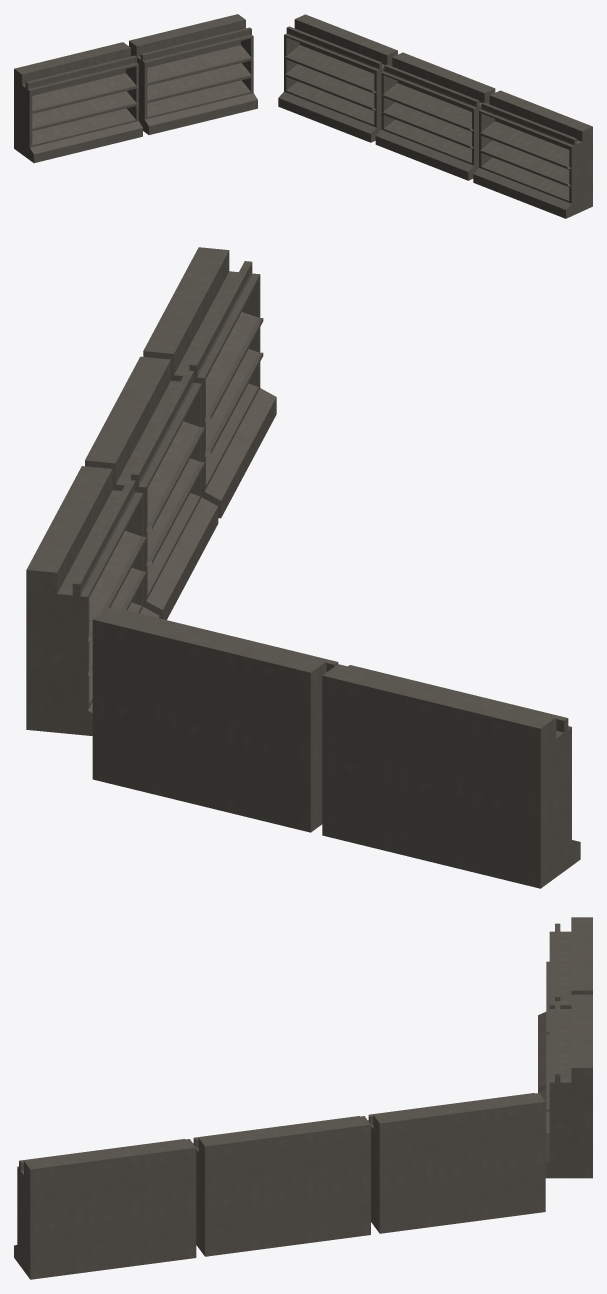
Rendered from greenCounter_EMBED.fbx.
3 views of the same model, one above another, from view 1: azimuth 30°, elevation 25°; view 2: azimuth 150°, elevation 25°; view 3: azimuth 270°, elevation 25° (orthographic). The views are drawn at different scales.
Parts seen in each view (by area): view 1: greenCounter, greenCounter.001, greenCounter.004, greenCounter.002, greenCounter.003; view 2: greenCounter, greenCounter.001, greenCounter.002, greenCounter.004, greenCounter.003; view 3: greenCounter.004, greenCounter.002, greenCounter.003, greenCounter.001, greenCounter.
Part boxes in pixels (x1=…): greenCounter: x1=14, y1=42, x2=142, y2=163; greenCounter.001: x1=129, y1=14, x2=257, y2=134; greenCounter.004: x1=473, y1=90, x2=592, y2=218; greenCounter.002: x1=278, y1=14, x2=397, y2=142; greenCounter.003: x1=375, y1=52, x2=495, y2=180; greenCounter: x1=322, y1=664, x2=580, y2=888; greenCounter.001: x1=92, y1=608, x2=338, y2=832; greenCounter.002: x1=26, y1=466, x2=159, y2=735; greenCounter.004: x1=143, y1=247, x2=276, y2=518; greenCounter.003: x1=85, y1=356, x2=218, y2=619; greenCounter.004: x1=14, y1=1139, x2=196, y2=1279; greenCounter.002: x1=368, y1=1093, x2=545, y2=1233; greenCounter.003: x1=193, y1=1116, x2=370, y2=1256; greenCounter.001: x1=538, y1=994, x2=592, y2=1178; greenCounter: x1=538, y1=917, x2=592, y2=1092.
Size of the model in its own units: 5873 by 1197 by 5695.
Materials: 1 (1 with a texture image).
